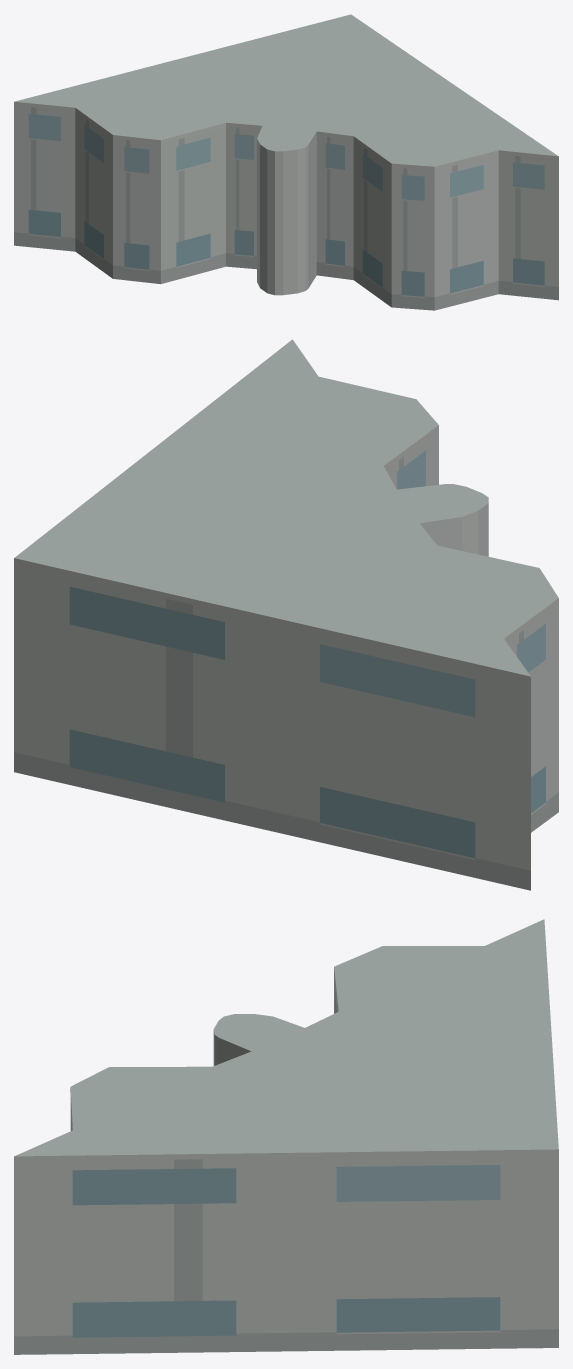
File: survey-upis-32542898.glb
3 views of the same model, one above another, from view 1: azimuth 30°, elevation 25°; view 2: azimuth 150°, elevation 25°; view 3: azimuth 270°, elevation 25° (orthographic). The views are drawn at different scales.
Parts seen in each view (by area): view 1: survey-upis-32542898.tmp; view 2: survey-upis-32542898.tmp; view 3: survey-upis-32542898.tmp.
Boxes of the visible parts, x1,y1,x2,y2 form: survey-upis-32542898.tmp: (14, 14, 558, 310); survey-upis-32542898.tmp: (14, 339, 558, 890); survey-upis-32542898.tmp: (14, 919, 558, 1354).
Size of the model in its own units: 23.47 by 9.15 by 22.77.
